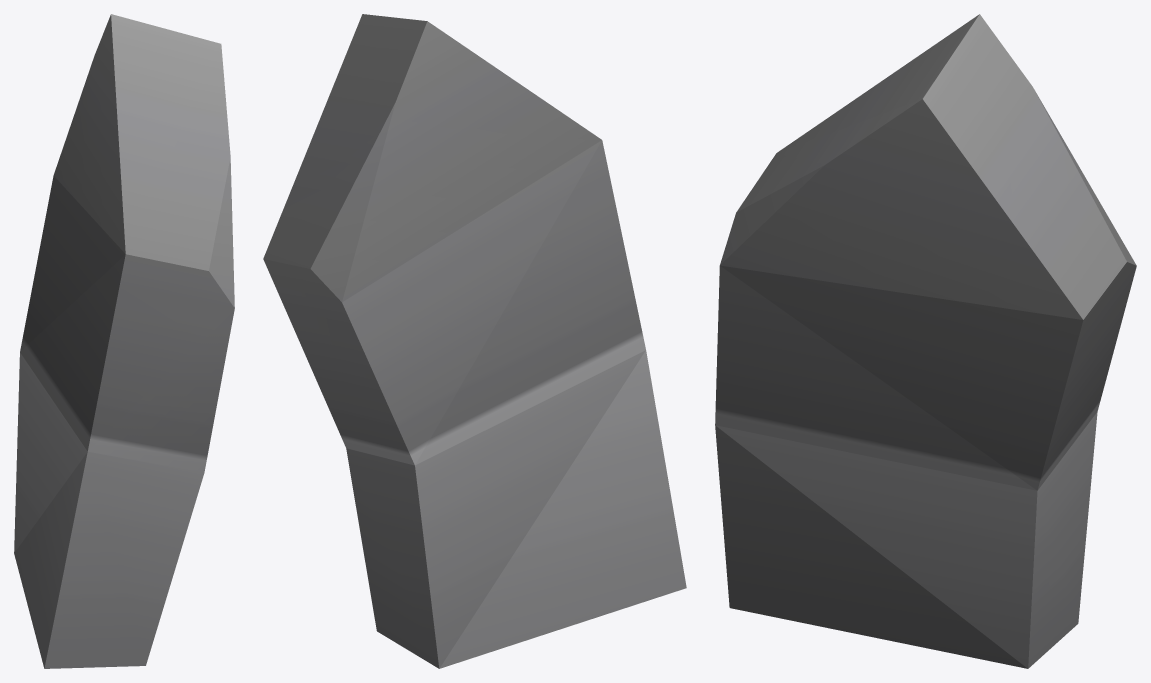
The model's file is ea_grave_stone_mini_01c_pre__8__1_lev1.glb.
The picture shows the model from 3 angles, left to right: view 1: azimuth 30°, elevation 25°; view 2: azimuth 150°, elevation 25°; view 3: azimuth 270°, elevation 25°; orthographic projection. The views are drawn at different scales.
Parts seen in each view (by area): view 1: ea_grave_stone_mini_01c_pre__8__1_lev1; view 2: ea_grave_stone_mini_01c_pre__8__1_lev1; view 3: ea_grave_stone_mini_01c_pre__8__1_lev1.
Boxes of the visible parts, x1,y1,x2,y2 form: ea_grave_stone_mini_01c_pre__8__1_lev1: (14,14,234,668); ea_grave_stone_mini_01c_pre__8__1_lev1: (263,14,686,668); ea_grave_stone_mini_01c_pre__8__1_lev1: (715,14,1136,668).
Bounding box in the file's own units: 0.748 × 1.53 × 0.9108.
1 material, 1 textured.
